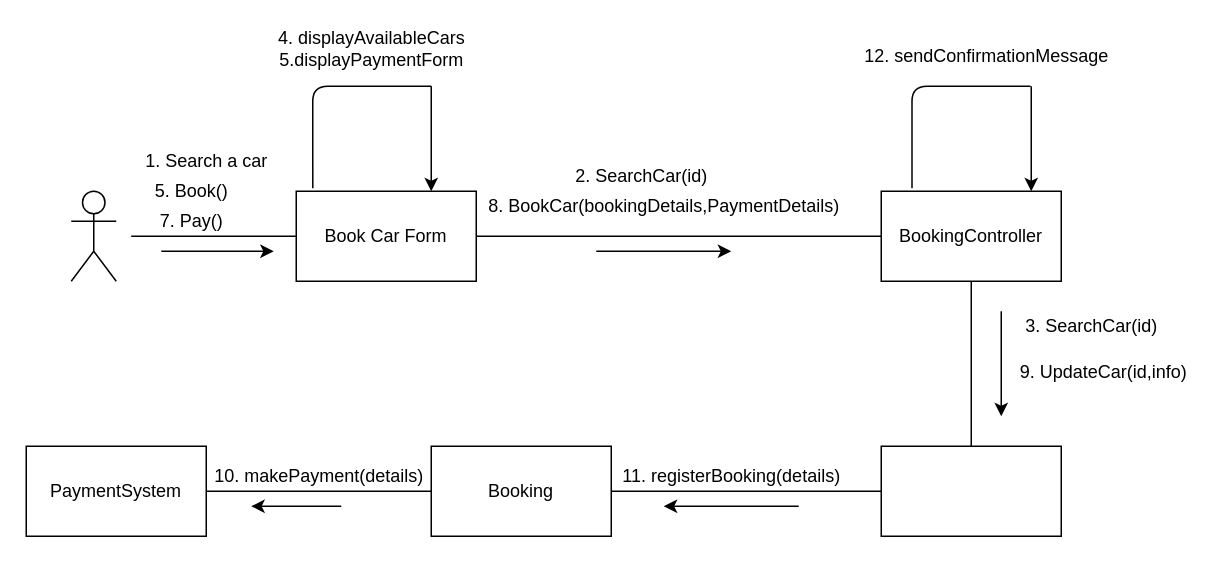
Some shapes in this 1227 by 563 pixel diagram are drawn without their labels. The centre of each missing label's shape, as x and y in pixels:
"ActorName" belongs at (93,235).
"Cars" belongs at (970,490).
